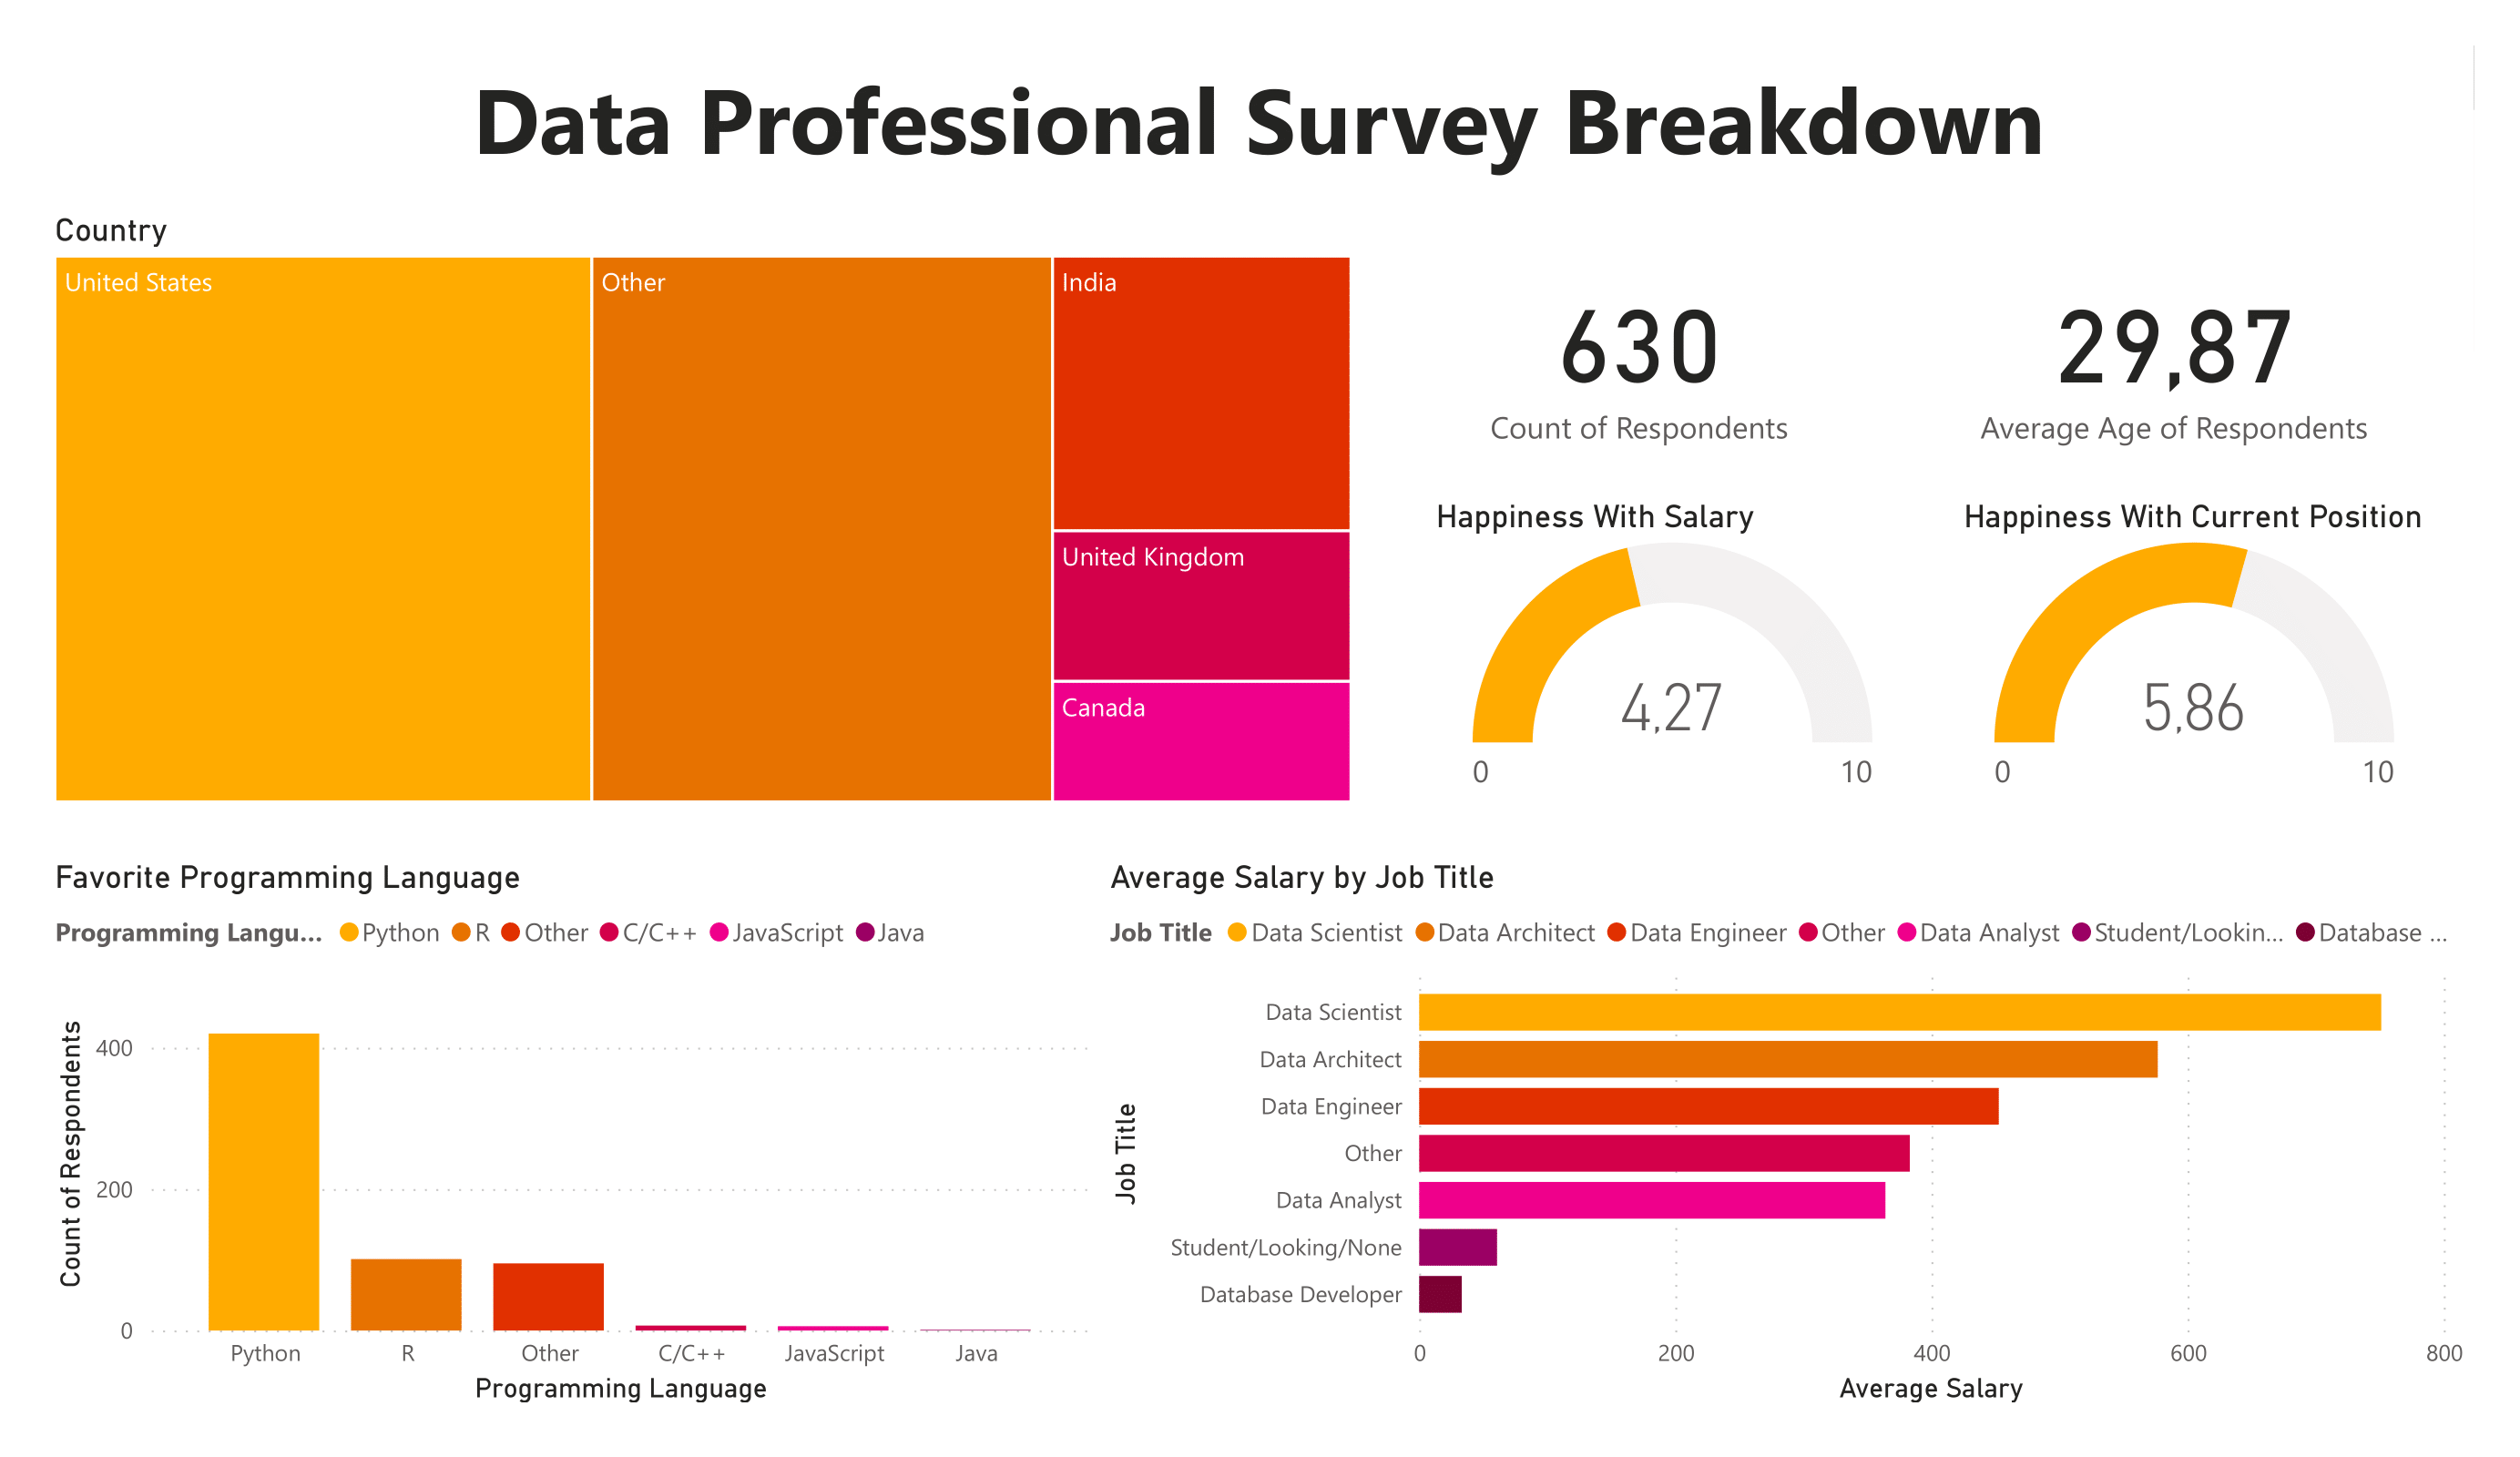

This screenshot's page, from the dashboard's own definition file:
{"tool":"powerbi","page":{"name":"Page 1","canvas":[1280,720],"ordinal":0},"visuals":[{"type":"textbox","box":[0,0,1279.5,87.4],"z":0},{"type":"card","fields":{"Values":["CountNonNull(Data Professional Survey.Unique ID)"]},"box":[693,87.4,294,151],"z":1000},{"type":"card","fields":{"Values":["Avg(Data Professional Survey.Q10 - Current Age)"]},"box":[964.8,87.4,314.7,151],"z":2000},{"type":"barChart","title":"Average Salary by Job Title","fields":{"Category":["Data Professional Survey.Q1 - Which Title Best Fits your Current Role?.1"],"Y":["Avg(Data Professional Survey.Average Salary)"],"Series":["Data Professional Survey.Q1 - Which Title Best Fits your Current Role?.1"]},"box":[556.3,427.5,723.2,292.5],"z":3000},{"type":"columnChart","title":"Favorite Programming Language","fields":{"Category":["Data Professional Survey.Q5 - Favorite Programming Language.1"],"Y":["CountNonNull(Data Professional Survey.Unique ID)"],"Series":["Data Professional Survey.Q5 - Favorite Programming Language.1"]},"box":[0,427.5,556.3,292.5],"z":4000},{"type":"treemap","title":"Country","fields":{"Group":["Data Professional Survey.Q11 - Which Country do you live in?.1"],"Values":["CountNonNull(Data Professional Survey.Q11 - Which Country do you live in?.1)"]},"box":[0,87.4,693,316.3],"z":5000},{"type":"gauge","title":"Happiness With Current Position","fields":{"Y":["Avg(Data Professional Survey.Q6 - How Happy are you in your Current Position with the following? (Coworkers))"],"MinValue":["Min(Data Professional Survey.Q6 - How Happy are you in your Current Position with the following? (Coworkers))1"],"MaxValue":["Max(Data Professional Survey.Q6 - How Happy are you in your Current Position with the following? (Coworkers))2"]},"box":[1006.1,238.4,252.7,165.3],"z":6000},{"type":"gauge","title":"Happiness With Salary","fields":{"Y":["Avg(Data Professional Survey.Q6 - How Happy are you in your Current Position with the following? (Salary))"],"MinValue":["Min(Data Professional Survey.Q6 - How Happy are you in your Current Position with the following? (Salary))"],"MaxValue":["Max(Data Professional Survey.Q6 - How Happy are you in your Current Position with the following? (Salary))"]},"box":[727.9,238.4,259.1,165.3],"z":7000}]}

Visuals, with their boxes on the page's 1280x720 design canvas (x1, y1, x2, y2). These are canvas units, not pixel positions in the 2520x1457 screenshot, which may show the page scaled, cropped or inside an application window:
textbox: (x1=0, y1=0, x2=1280, y2=87)
card - CountNonNull(Data Professional Survey.Unique ID): (x1=693, y1=87, x2=987, y2=238)
card - Avg(Data Professional Survey.Q10 - Current Age): (x1=965, y1=87, x2=1280, y2=238)
"Average Salary by Job Title" barChart: (x1=556, y1=428, x2=1280, y2=720)
"Favorite Programming Language" columnChart: (x1=0, y1=428, x2=556, y2=720)
"Country" treemap: (x1=0, y1=87, x2=693, y2=404)
"Happiness With Current Position" gauge: (x1=1006, y1=238, x2=1259, y2=404)
"Happiness With Salary" gauge: (x1=728, y1=238, x2=987, y2=404)
